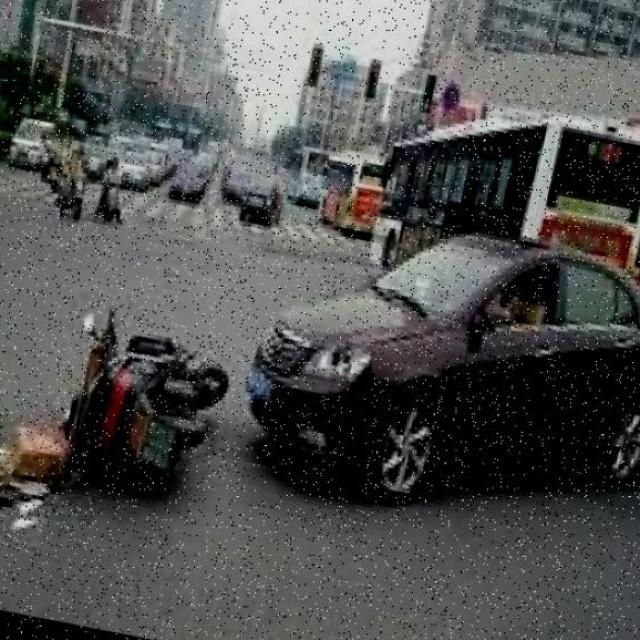accident: (23, 243, 255, 522)
